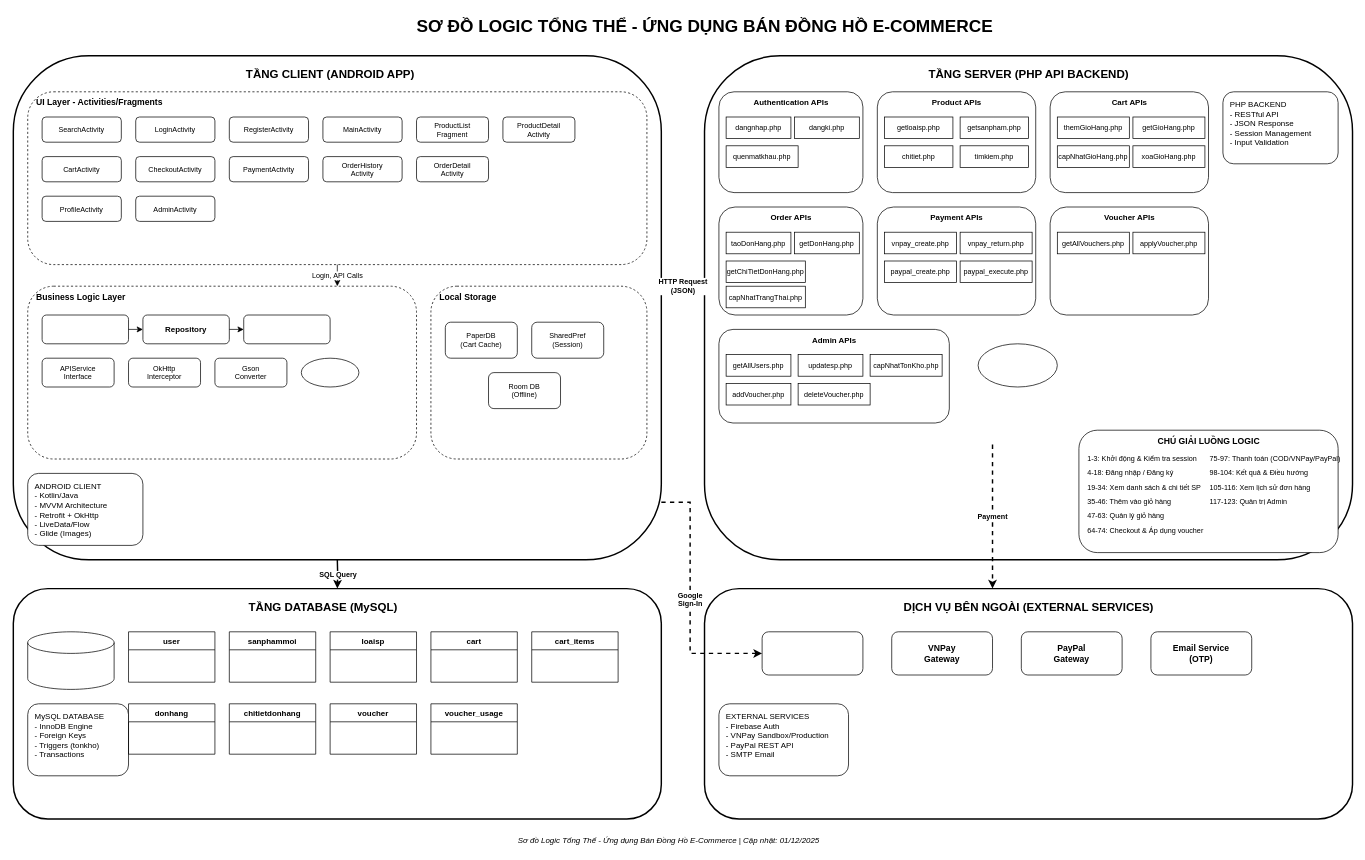
This 1365x860 diagram has some shape labels left out. Here are the shapes that lost their labels. From the top down, the centre of each, then its label:
At [85,329]: "ViewModel".
At [286,329]: "RetrofitClient".
At [330,372]: "Check Session".
At [1017,365]: "connect.php (DB Connection)".
At [70,660]: "appbandienthoai".
At [812,653]: "Google/Firebase Auth".
